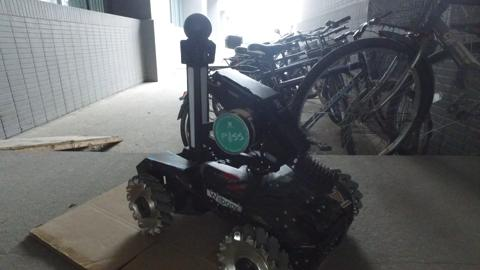bike: (286, 5, 471, 154)
chariot: (127, 18, 321, 270)
